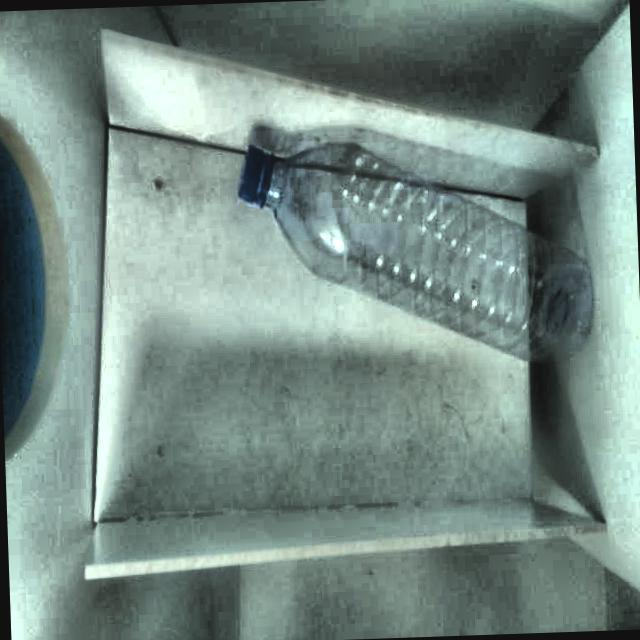plastic bottle: (238, 139, 592, 360)
